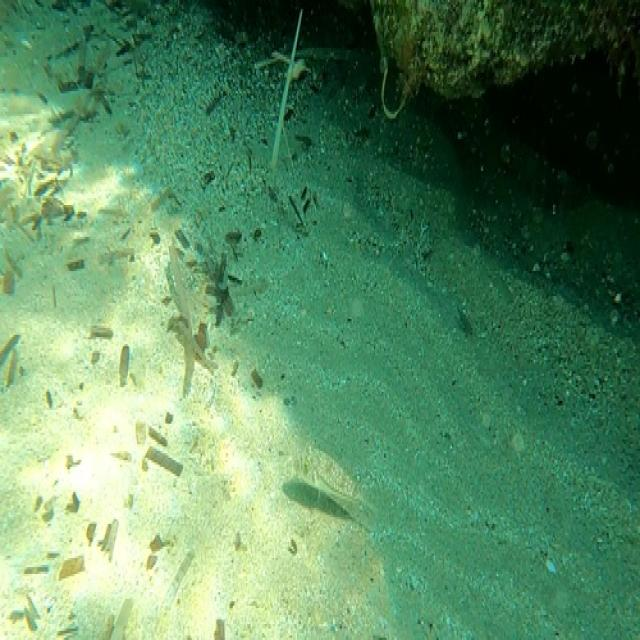Balik: (294, 446, 369, 519)
